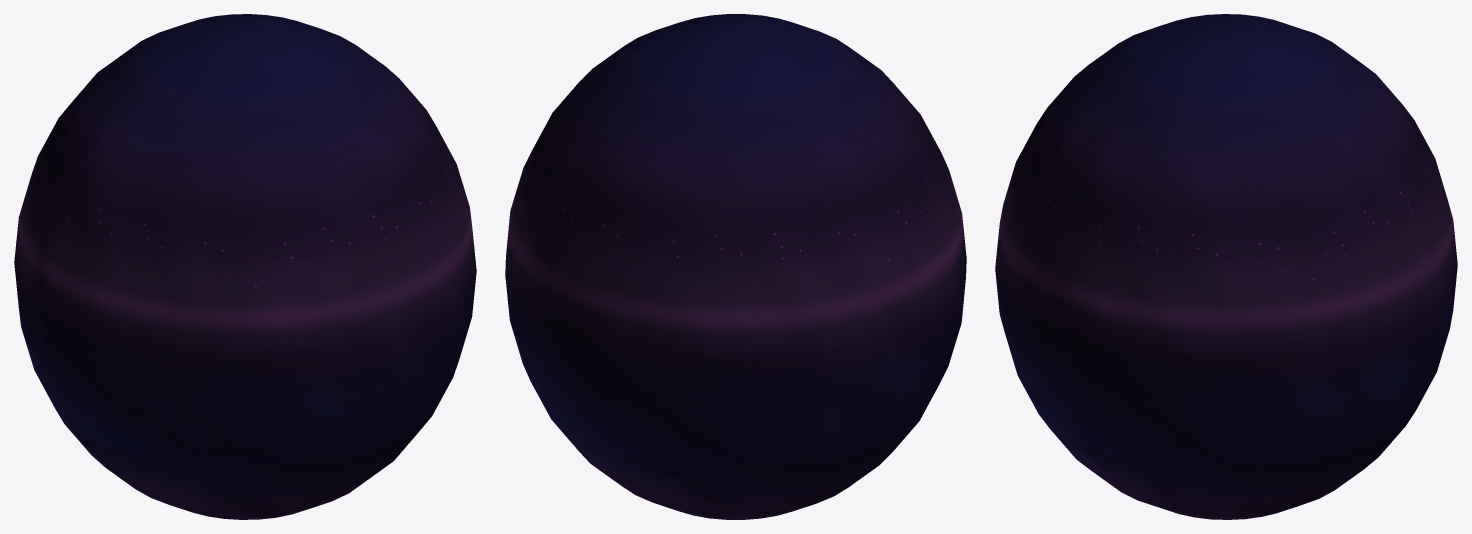
Rendered from Sky.fbx.
The picture shows the model from 3 angles, left to right: view 1: azimuth 30°, elevation 25°; view 2: azimuth 150°, elevation 25°; view 3: azimuth 270°, elevation 25°; orthographic projection.
Parts seen in each view (by area): view 1: Sky; view 2: Sky; view 3: Sky.
Part boxes in pixels (box(x1,y1,x2,y2)): Sky: box(14, 14, 476, 519); Sky: box(505, 14, 966, 519); Sky: box(995, 14, 1457, 519).
Bounding box in the file's own units: 593 × 661 × 593.
